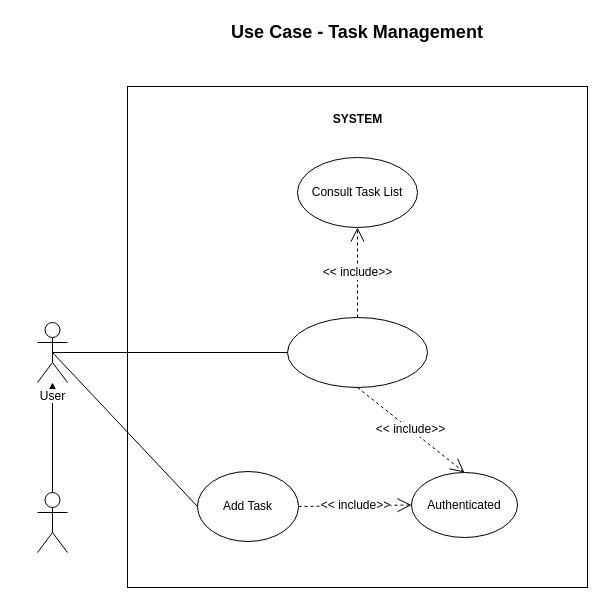
Image size: 605x605. Some labels were removed from this diagram. The centre of each missing label's shape, as x and y in pixels:
"Administrator" belongs at (x=52, y=522).
"Edit / Delete / Change Status Task" belongs at (x=357, y=352).
